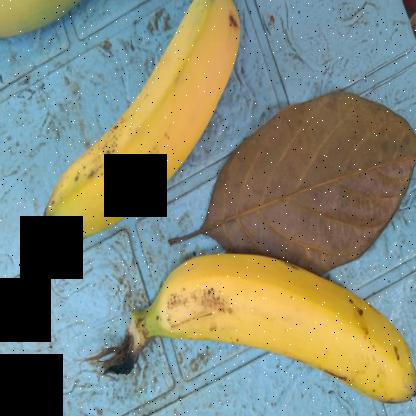freshripe: (30, 1, 258, 238), (154, 242, 410, 403)
